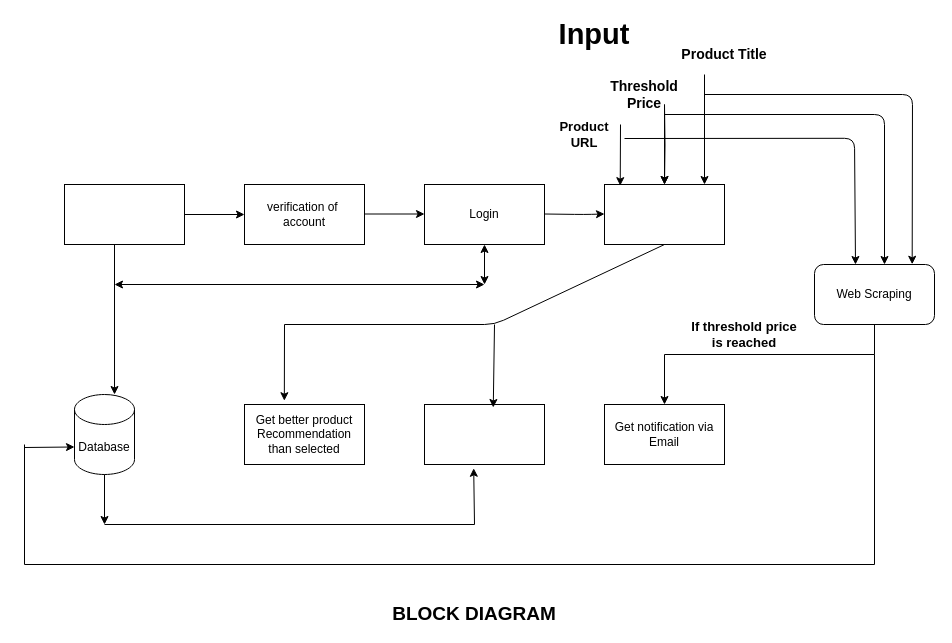
This 952x643 diagram has some shape labels left out. The shapes that lost their labels are listed below. From the top down, each one's centre as x and y in pixels, then its label:
the point at 124,214: Set up an account by signing up
the point at 664,214: update the cart and display related information.
the point at 484,434: Get graphical illustartion of trends
